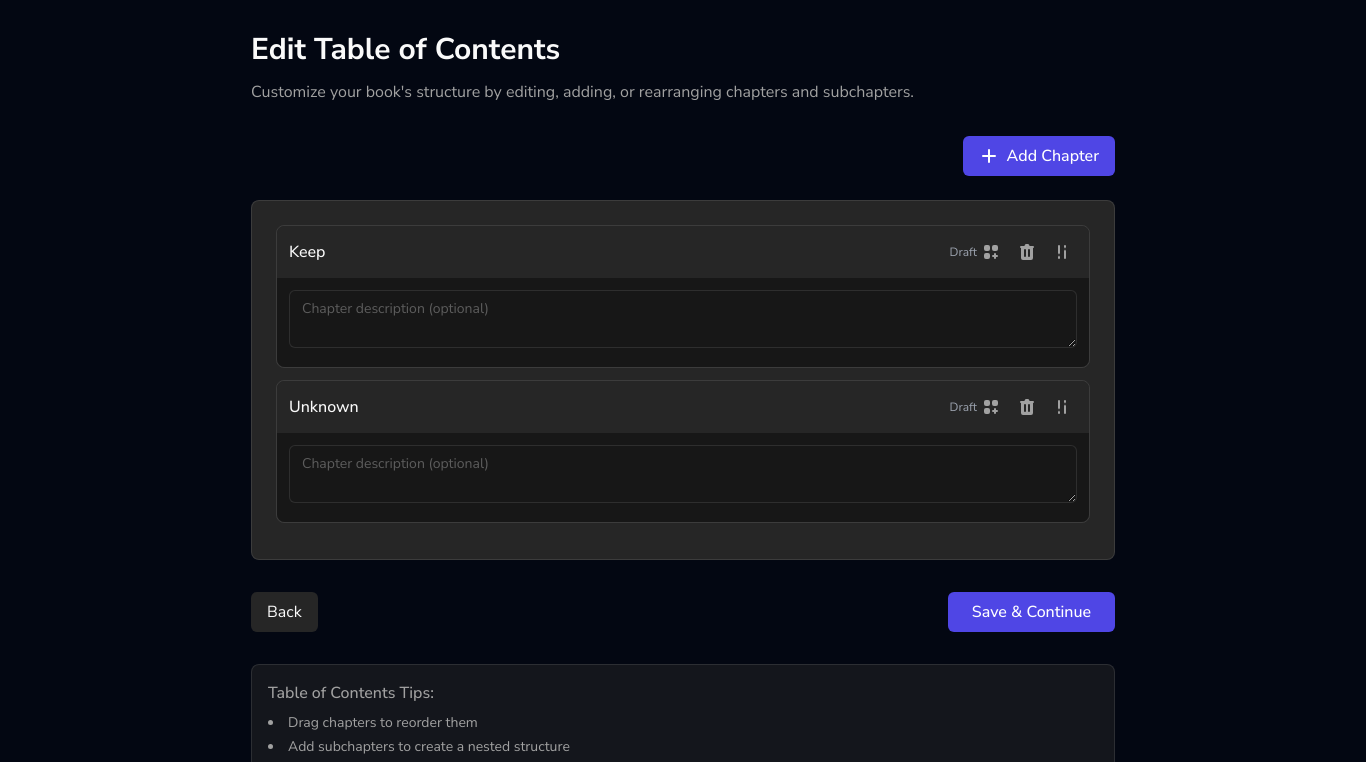
Test: still asks when the answers cannot be counted
The image size is (1366, 762).
Expected: the 2nd field showing "Unknown" is shown, [289,395,942,419]
Click the 2nd button titled "Delete Chapter" at [1027, 407], box [1013,393,1041,421]
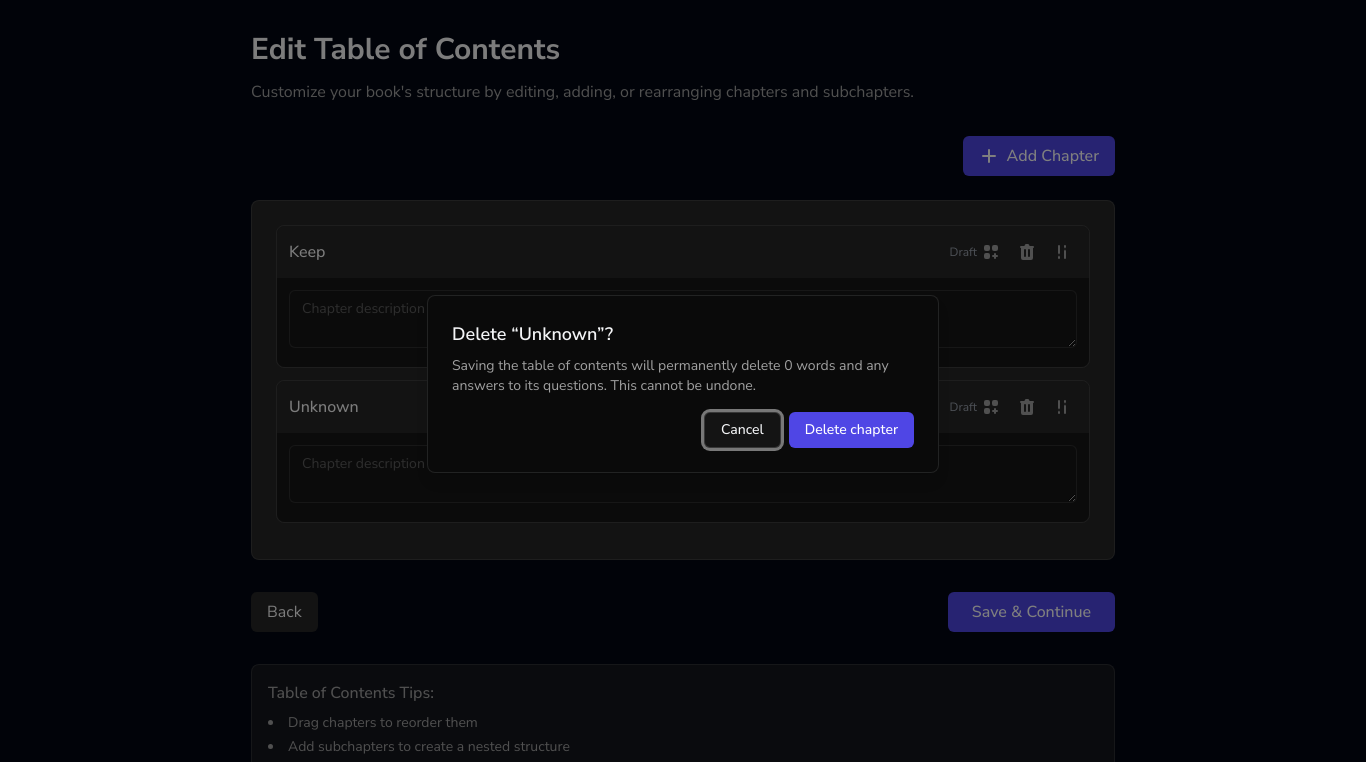
Expected: the dialog shows "answers", [452,356,889,395]
